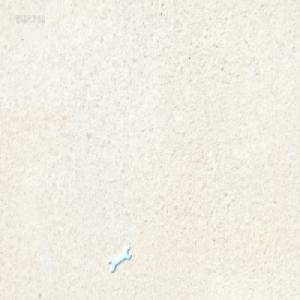Wrench: (108, 244, 130, 273)
